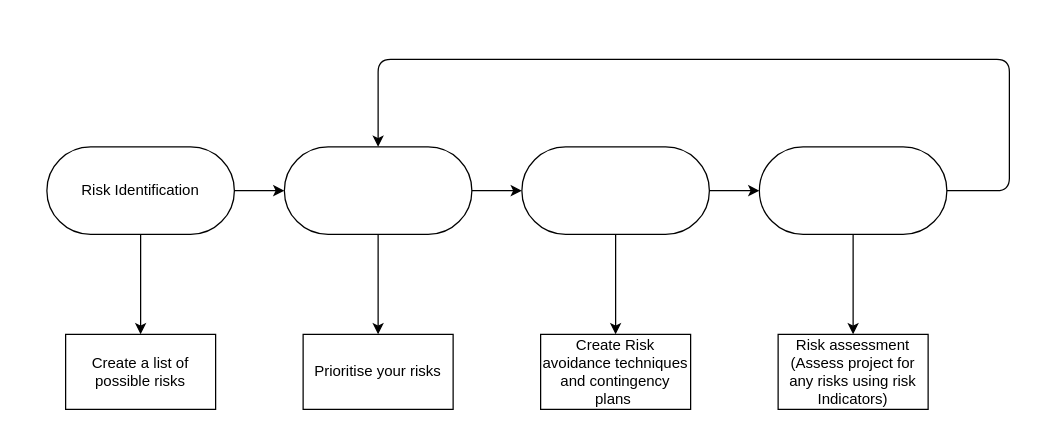
Image size: 1044x444. Some labels were removed from this diagram. Here are the shapes that lost their labels. From the top down, the centre of each, then its label:
pixel 377 190: Risk Analysis
pixel 615 190: Risk Planning
pixel 852 190: Risk Monitoring
